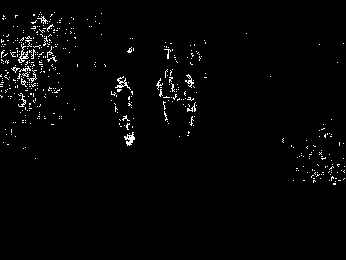person: (110, 75, 136, 147), (156, 67, 180, 124)
